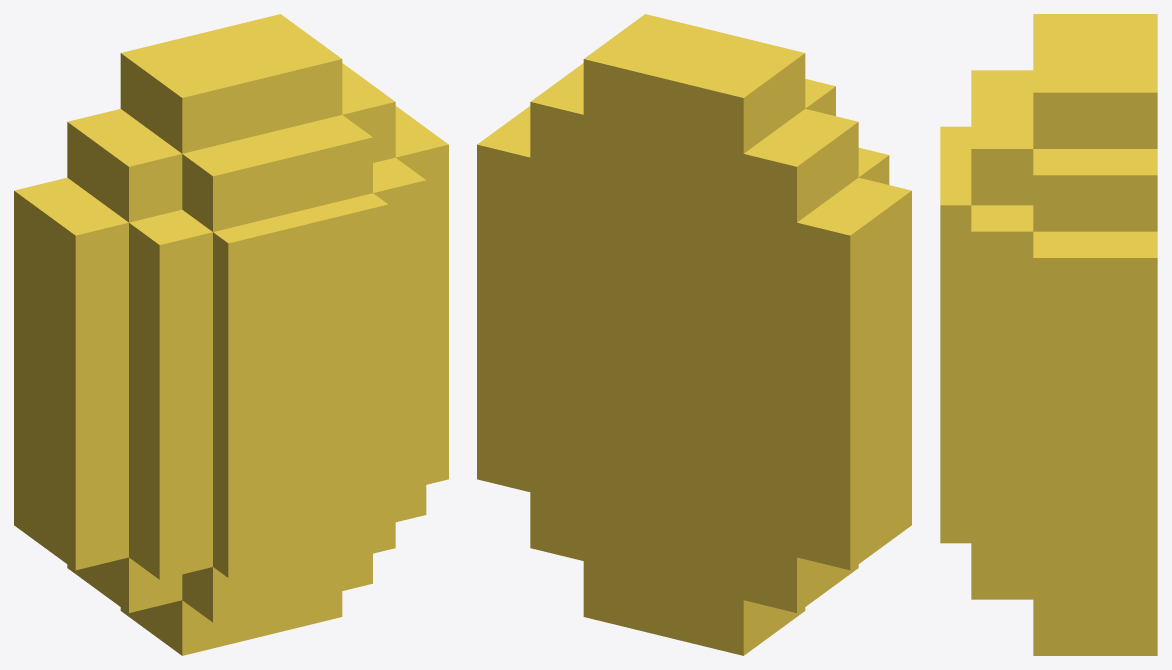
The model's file is light_murale_light.glb.
3 renders of one model, left to right at view 1: azimuth 30°, elevation 25°; view 2: azimuth 150°, elevation 25°; view 3: azimuth 270°, elevation 25°, orthographic.
Visible parts, largest first — view 1: generated(Clone); view 2: generated(Clone); view 3: generated(Clone).
Part boxes in pixels (x1,y1,x2,y2): generated(Clone): (14, 14, 448, 655); generated(Clone): (477, 14, 911, 655); generated(Clone): (940, 14, 1157, 655).
Size of the model in its own units: 7 by 10 by 3.5.
Materials: 1 (1 with a texture image).
